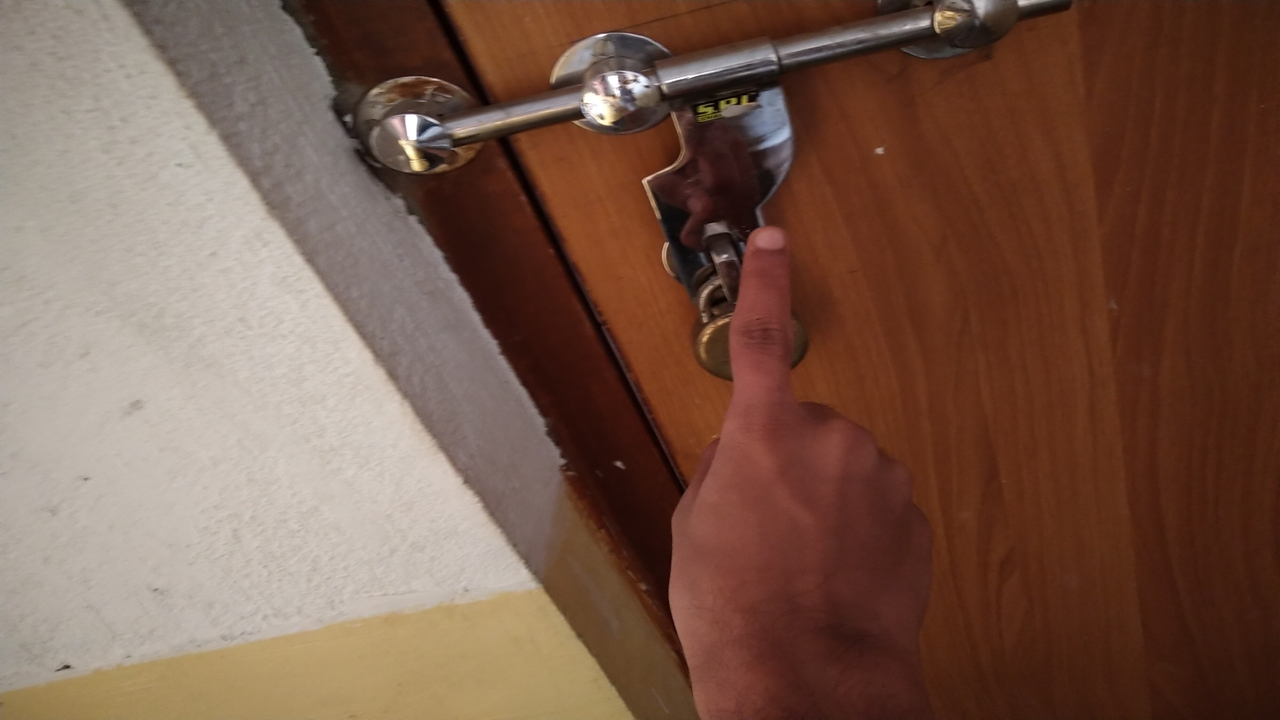fingertip: (742, 212, 800, 268)
